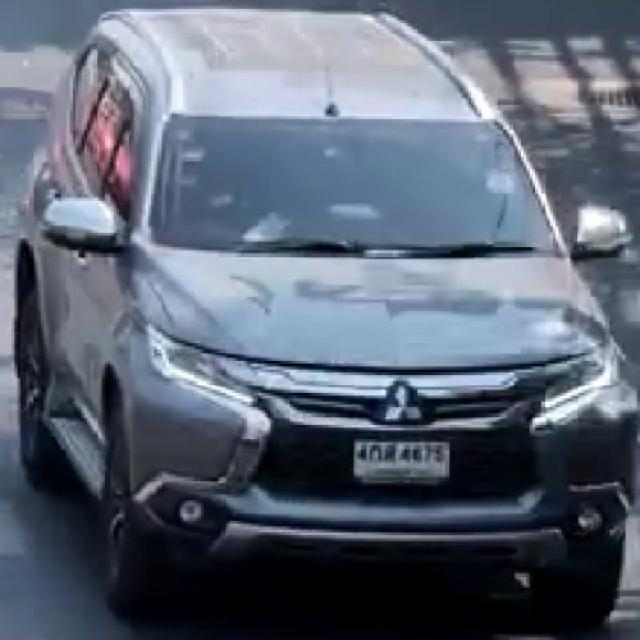plate: (353, 439, 449, 481)
